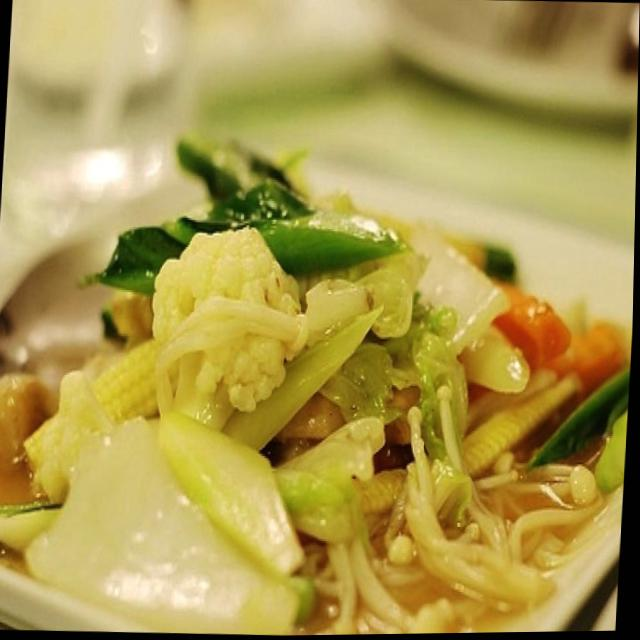蔬菜料理: (0, 160, 637, 640)
